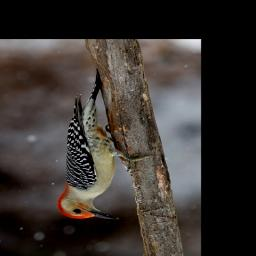Woodpecker: (57, 70, 154, 220)
